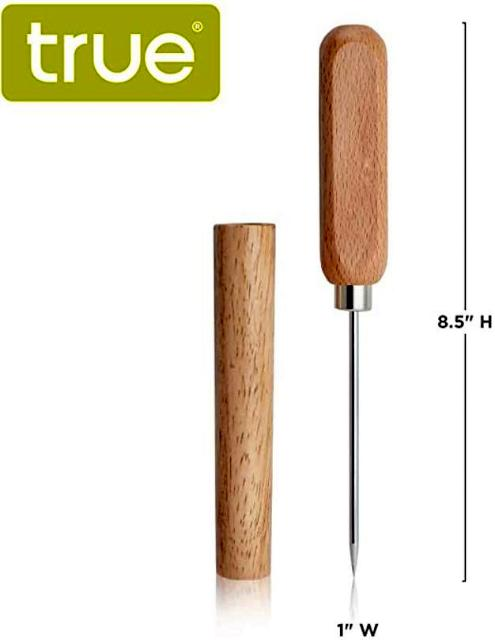ice pick: (320, 25, 388, 577)
